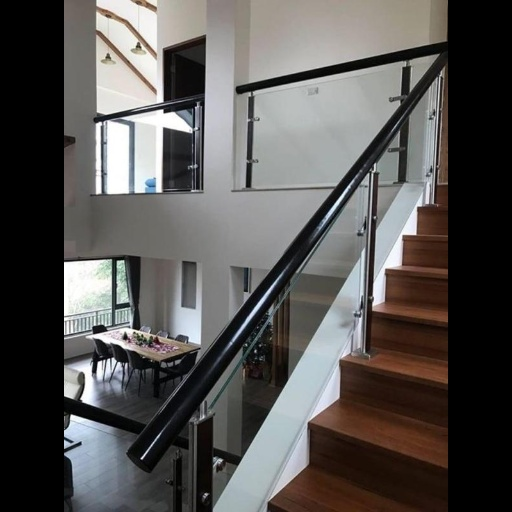Stairs: (269, 186, 448, 512)
